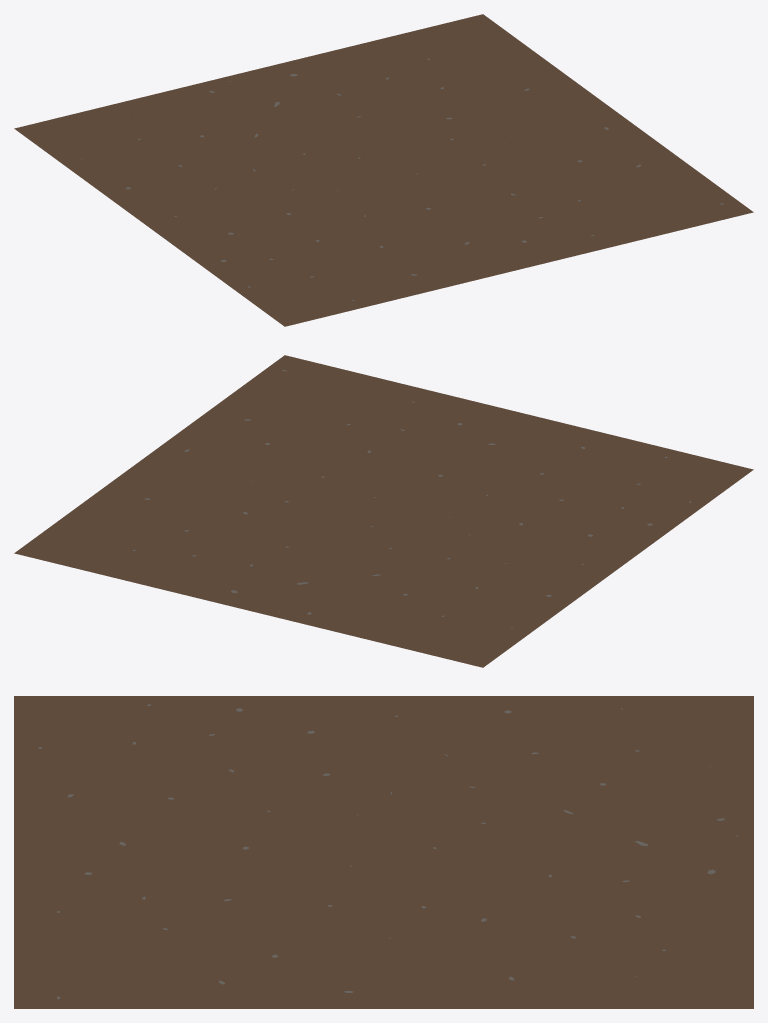
The model's file is 20C_BG_ground02_10M.fbx.
3 views of the same model, one above another, from view 1: azimuth 30°, elevation 25°; view 2: azimuth 150°, elevation 25°; view 3: azimuth 270°, elevation 25° (orthographic). The views are drawn at different scales.
Visible parts, largest first — view 1: 20C_BG_ground02_10M; view 2: 20C_BG_ground02_10M; view 3: 20C_BG_ground02_10M.
Boxes of the visible parts, x1=… form: 20C_BG_ground02_10M: x1=14, y1=14, x2=753, y2=326; 20C_BG_ground02_10M: x1=14, y1=355, x2=753, y2=667; 20C_BG_ground02_10M: x1=14, y1=696, x2=753, y2=1008.
Size of the model in its own units: 100 by 0.0501 by 100.
1 material, 1 textured.
